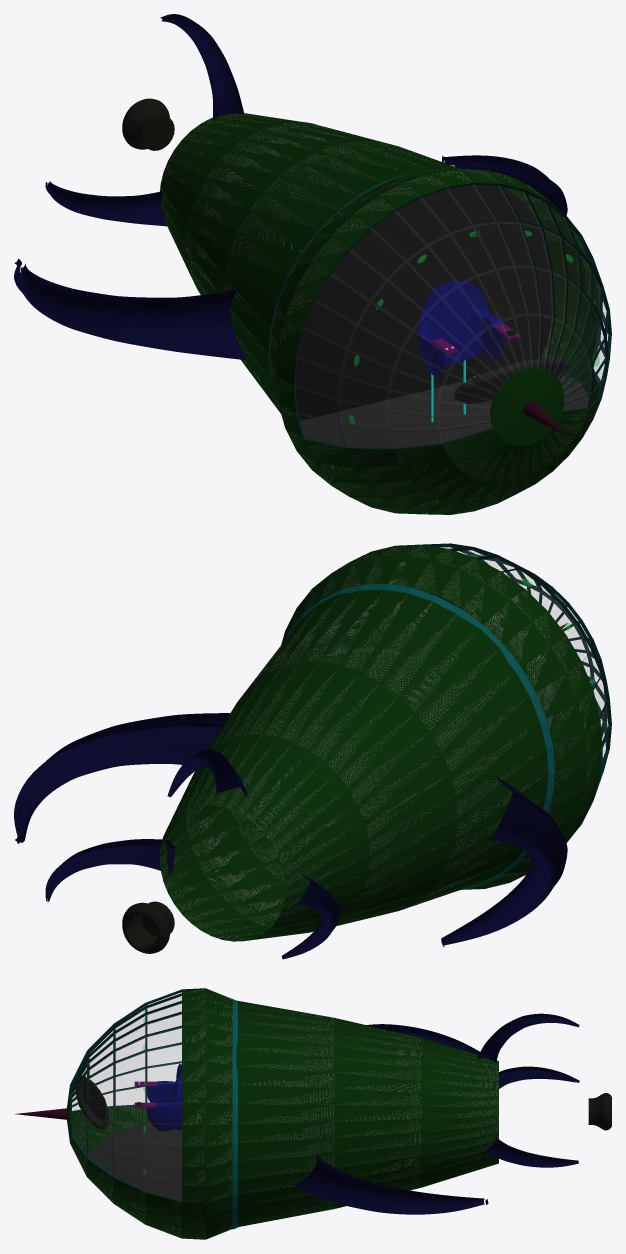
The model's file is 8862_Alien_Ship.fbx.
3 renders of one model, top to bottom at view 1: azimuth 30°, elevation 25°; view 2: azimuth 150°, elevation 25°; view 3: azimuth 270°, elevation 25°, orthographic. The views are drawn at different scales.
Parts seen in each view (by area): view 1: obj0; view 2: obj0; view 3: obj0.
Boxes of the visible parts, bbox=[...] form: obj0: bbox=[14, 14, 611, 514]; obj0: bbox=[14, 543, 611, 959]; obj0: bbox=[15, 988, 611, 1239].
Size of the model in its own units: 12.34 by 7.56 by 17.89.
